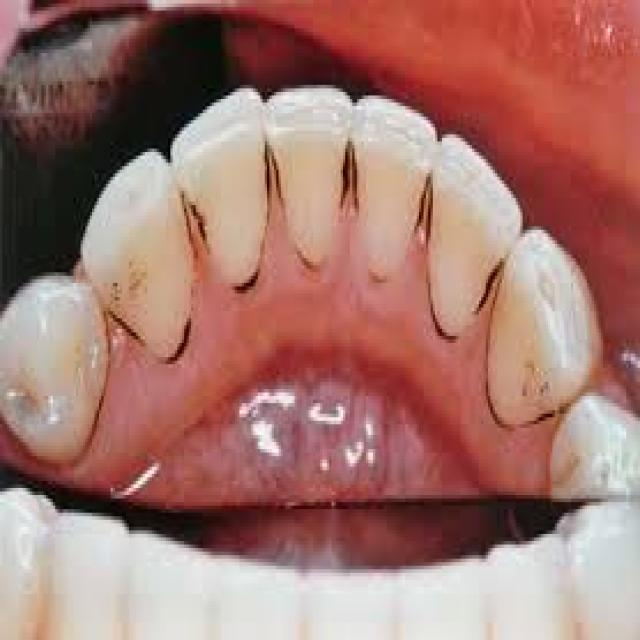Tooth Discoloration: (107, 127, 365, 364), (403, 152, 589, 442)
